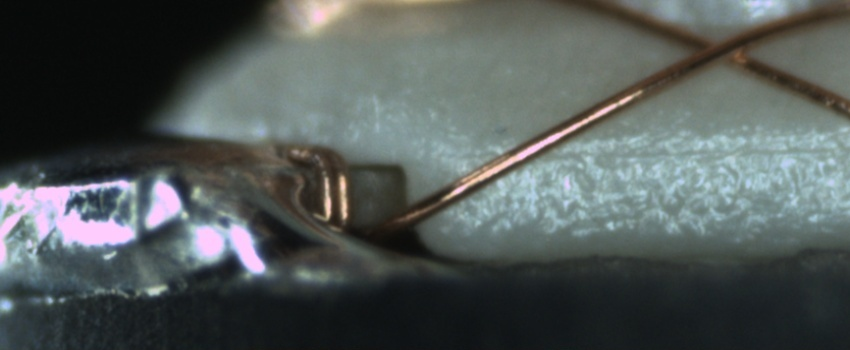CL: (677, 24, 766, 73)
DL: (530, 119, 850, 183)
TE: (283, 141, 361, 232)
